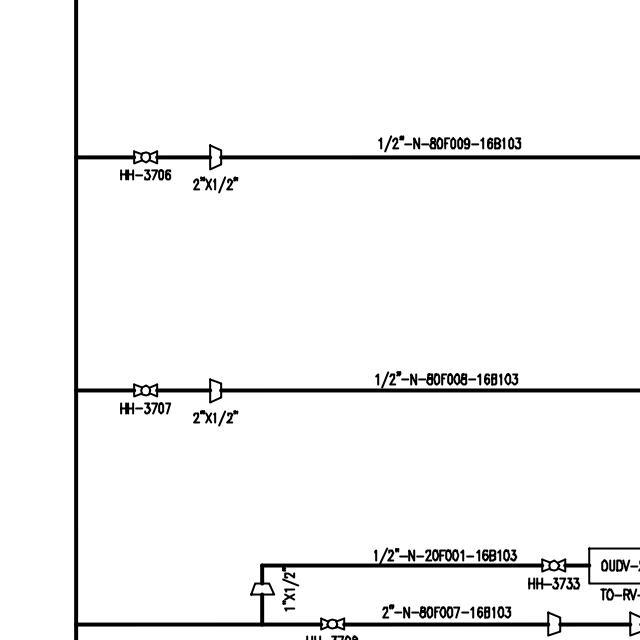BV2: (129, 148, 164, 168), (538, 556, 568, 575), (315, 613, 346, 631), (131, 382, 162, 399)
SP: (205, 141, 229, 173), (541, 606, 565, 638), (247, 577, 276, 599), (207, 375, 224, 406)
